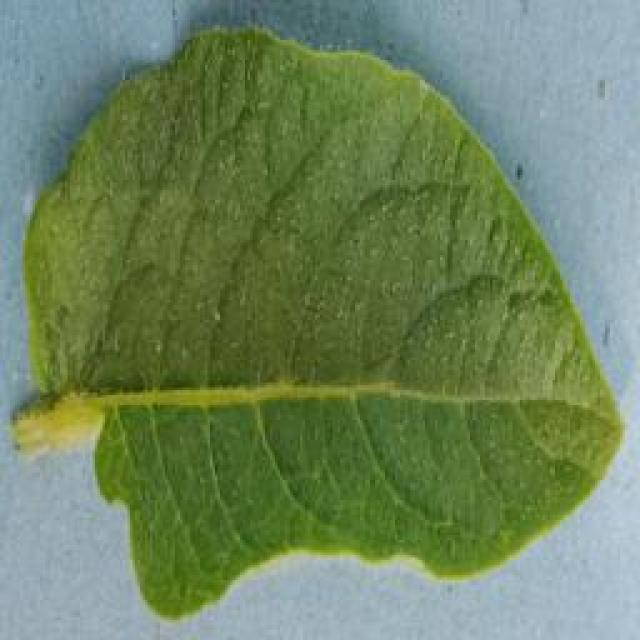Potato_Healthy: (12, 24, 618, 620)
